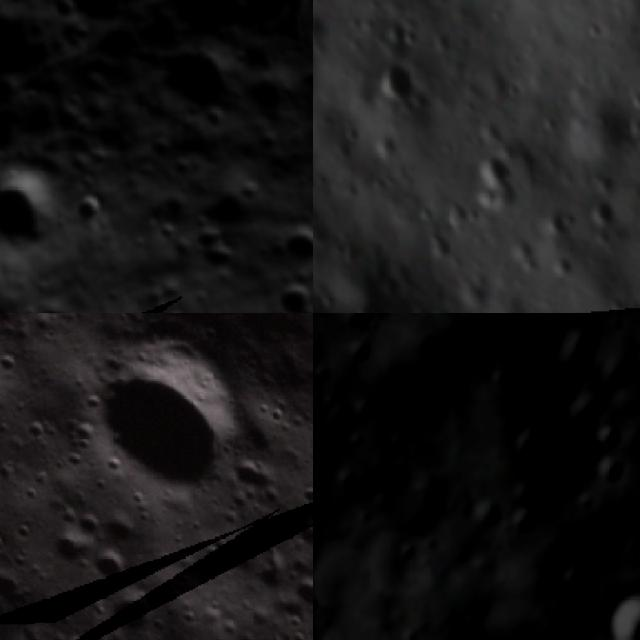crater: (54, 313, 277, 529), (138, 22, 252, 136), (0, 139, 96, 272), (34, 0, 189, 49), (174, 201, 260, 289), (226, 52, 309, 134), (565, 89, 640, 173), (95, 574, 175, 640), (80, 537, 141, 599), (469, 145, 525, 207), (588, 577, 640, 640), (269, 210, 313, 279), (369, 51, 424, 106), (40, 522, 94, 577), (70, 182, 121, 234), (0, 56, 39, 122), (66, 502, 115, 551), (277, 501, 313, 566), (265, 268, 313, 313), (380, 8, 422, 56), (542, 200, 580, 243), (586, 190, 624, 233), (506, 228, 544, 270), (373, 126, 406, 169), (0, 516, 23, 570), (0, 346, 24, 380), (416, 202, 435, 228)
